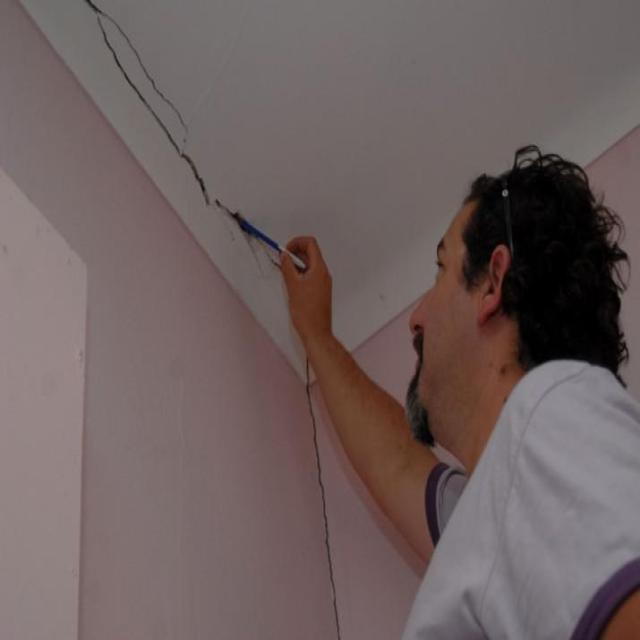crack: (96, 15, 209, 204), (87, 1, 190, 132), (305, 355, 342, 635), (217, 194, 272, 261)
